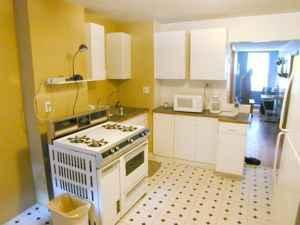Bote de Basura: (47, 188, 93, 223)
Electrodomestico: (270, 55, 299, 223), (90, 139, 146, 224)
